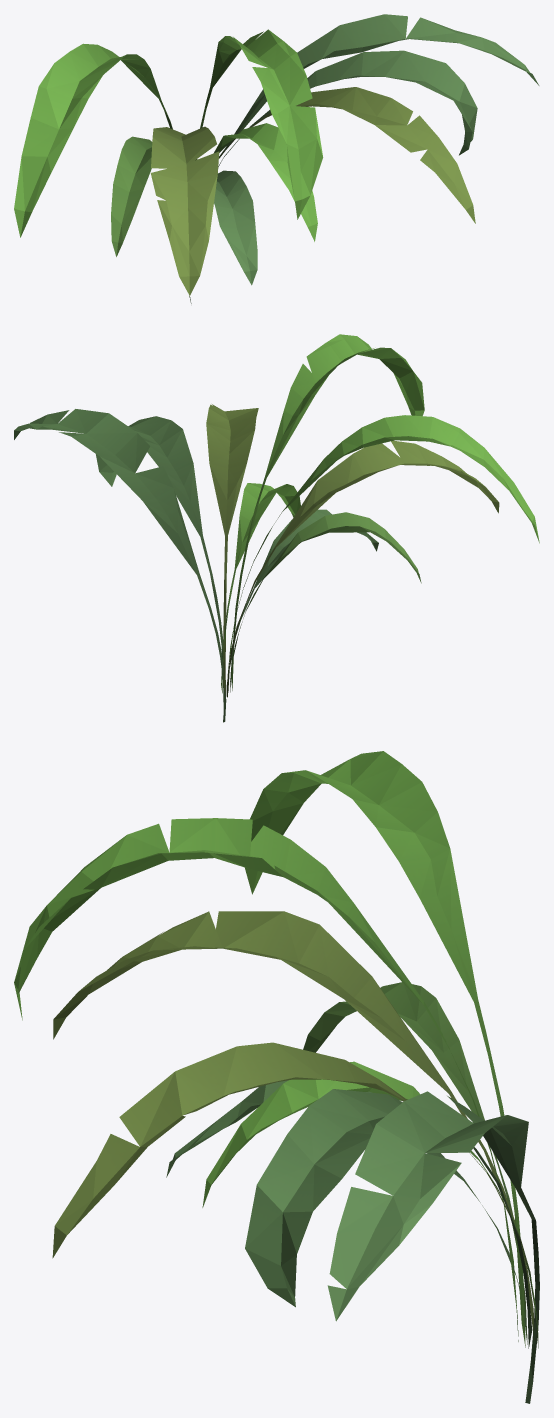
The model's file is Jungle_ThinFern_D.fbx.
3 views of the same model, one above another, from view 1: azimuth 30°, elevation 25°; view 2: azimuth 150°, elevation 25°; view 3: azimuth 270°, elevation 25° (orthographic). The views are drawn at different scales.
Visible parts, largest first — view 1: Jungle_ThinFern_D; view 2: Jungle_ThinFern_D; view 3: Jungle_ThinFern_D.
Part boxes in pixels (x1,y1,x2,y2): Jungle_ThinFern_D: (14, 14, 539, 303); Jungle_ThinFern_D: (14, 334, 539, 722); Jungle_ThinFern_D: (14, 751, 539, 1403).
Bounding box in the file's own units: 4.81 × 2.89 × 2.51.
1 material, 1 textured.
